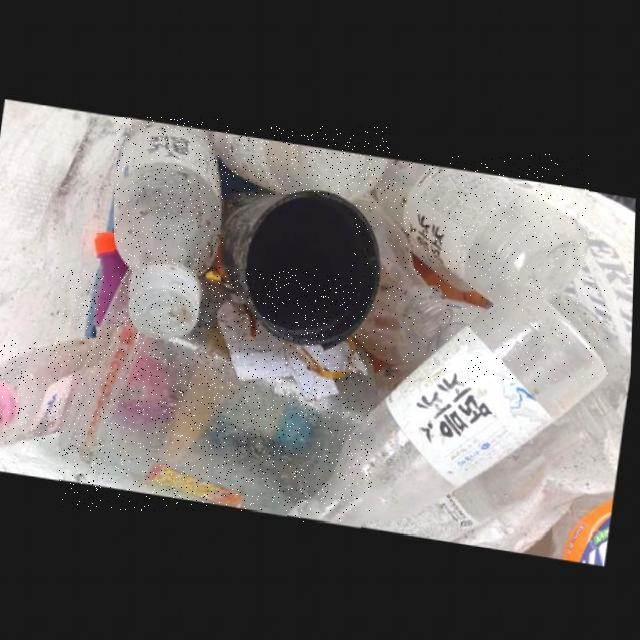plastic: (287, 280, 608, 522), (59, 269, 372, 511), (361, 383, 626, 535), (378, 155, 589, 296), (114, 117, 223, 337), (353, 188, 454, 332), (205, 127, 391, 196), (0, 337, 98, 443)
